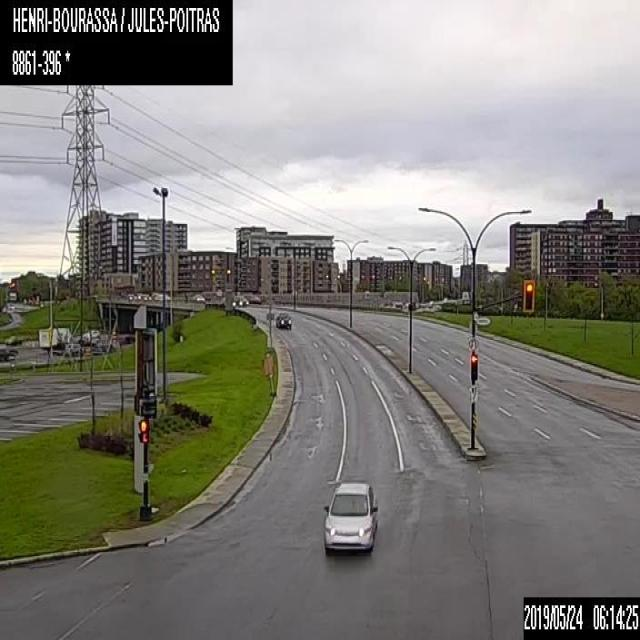vehicle: (322, 477, 378, 556), (38, 327, 72, 349), (274, 311, 291, 329), (192, 292, 204, 301), (236, 296, 248, 305)
